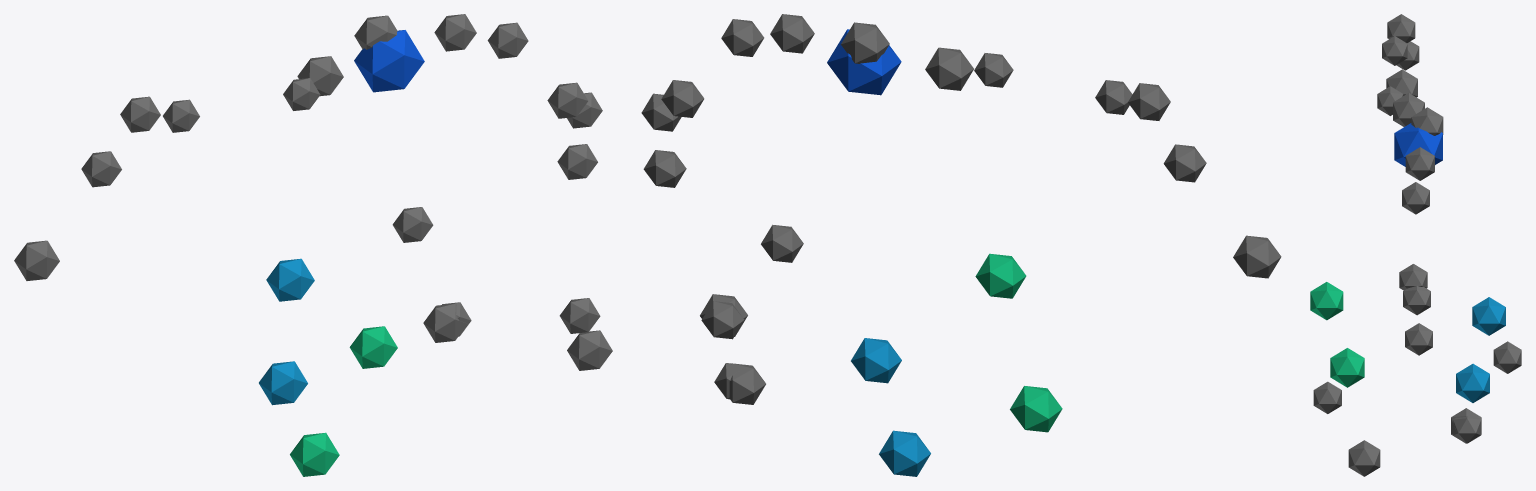
The picture shows the model from 3 angles, left to right: view 1: azimuth 30°, elevation 25°; view 2: azimuth 150°, elevation 25°; view 3: azimuth 270°, elevation 25°; orthographic projection. The views are drawn at different scales.
Parts seen in each view (by area): view 1: 07_02_06; view 2: 07_02_06; view 3: 07_02_06.
Boxes of the visible parts, x1,y1,x2,y2 form: 07_02_06: [14, 14, 612, 476]; 07_02_06: [641, 14, 1281, 476]; 07_02_06: [1310, 14, 1521, 476].
Size of the model in its own units: 0.6522 by 0.4169 by 0.2528.
